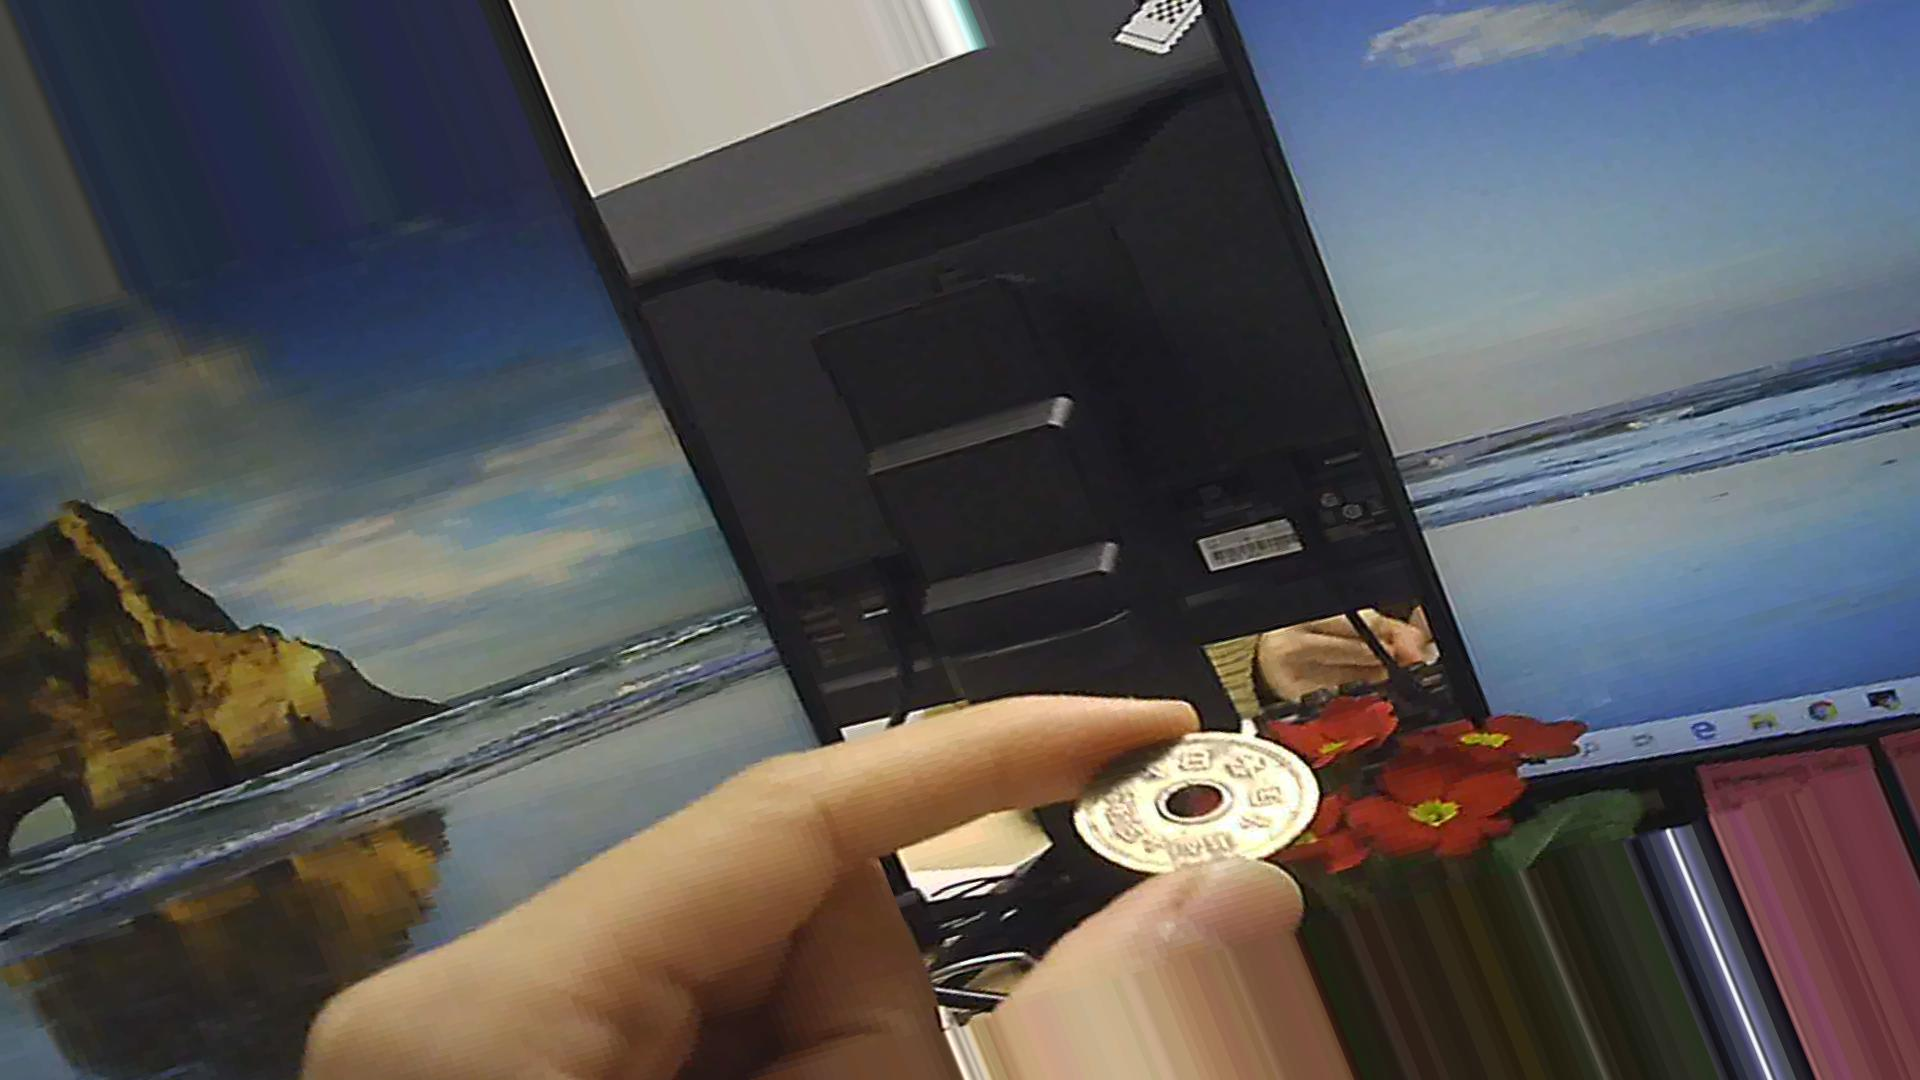5 Yen: (1056, 716, 1319, 880)
